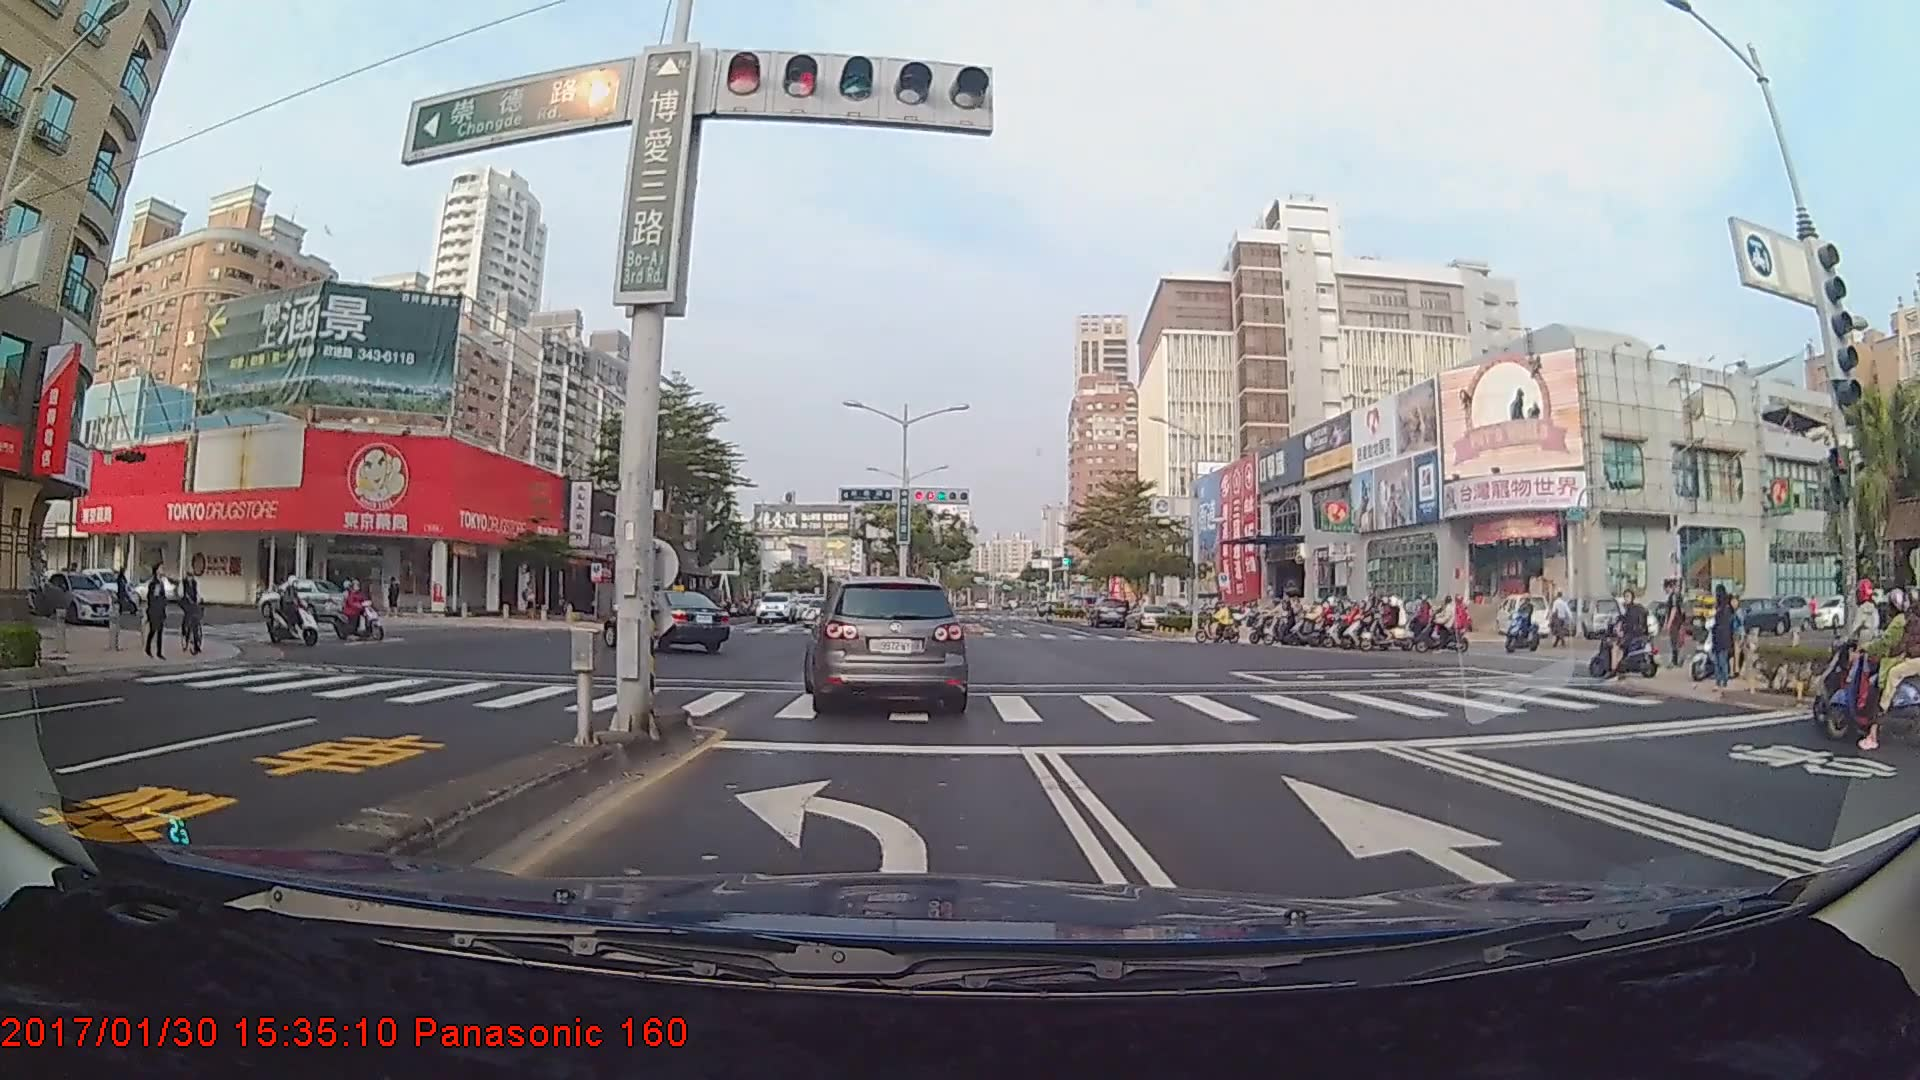pedestrian: (1704, 575, 1742, 697), (1665, 578, 1689, 670), (145, 568, 168, 665)
rider: (1826, 594, 1920, 757), (1807, 575, 1897, 728), (1685, 583, 1748, 687), (1594, 593, 1666, 679), (258, 572, 329, 652), (328, 578, 390, 641), (172, 566, 213, 658), (1418, 593, 1470, 657), (1498, 596, 1549, 652), (1244, 594, 1295, 642), (1373, 595, 1418, 650), (1194, 603, 1247, 645), (1340, 595, 1384, 644), (1320, 600, 1363, 646), (1332, 600, 1370, 645)
vehicle: (800, 574, 969, 719), (601, 589, 727, 654), (253, 579, 347, 621), (1088, 597, 1128, 629)
